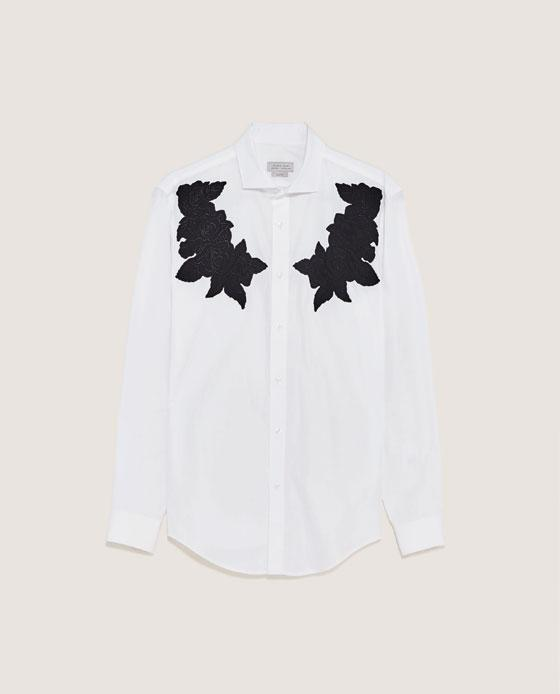teeshirt: (98, 114, 459, 582)
